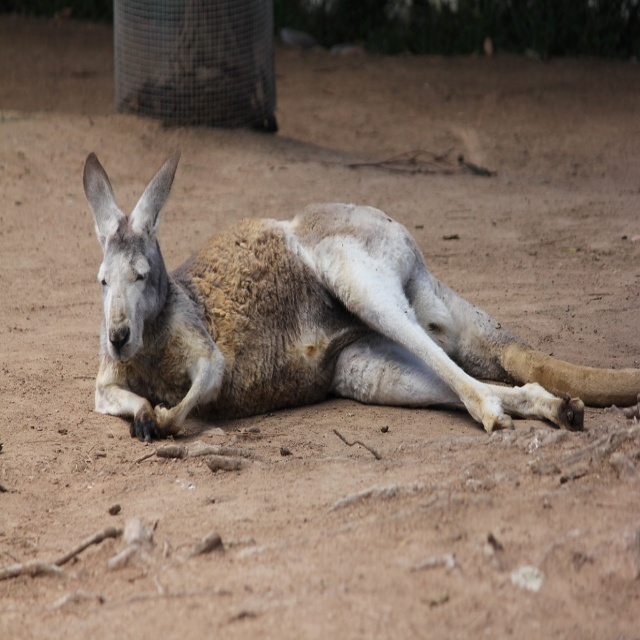Kangaroo: (84, 148, 640, 447)
